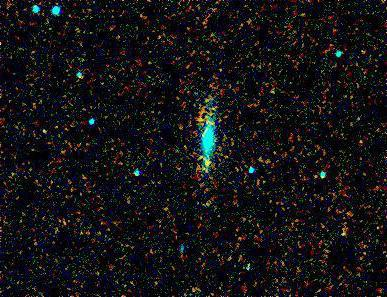star: (195, 147, 225, 177)
